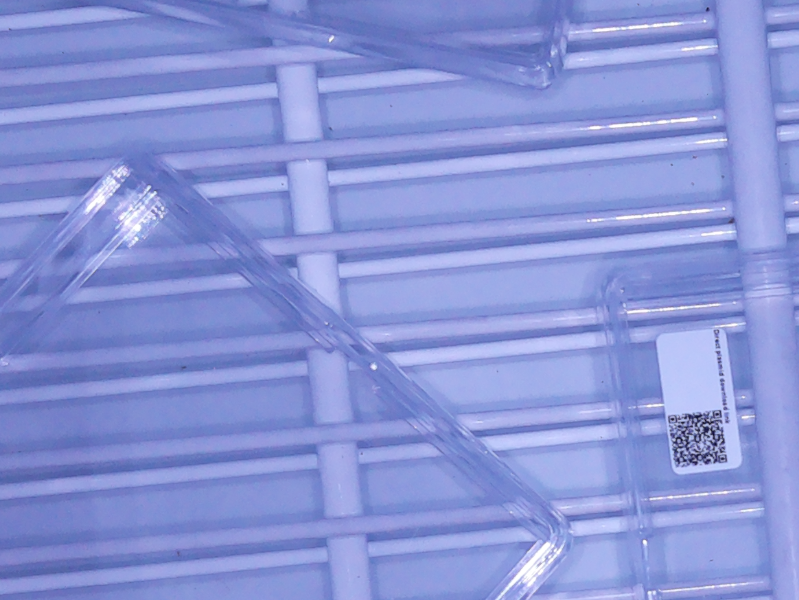plate: (1, 148, 574, 600), (598, 247, 799, 600), (174, 1, 574, 94)
